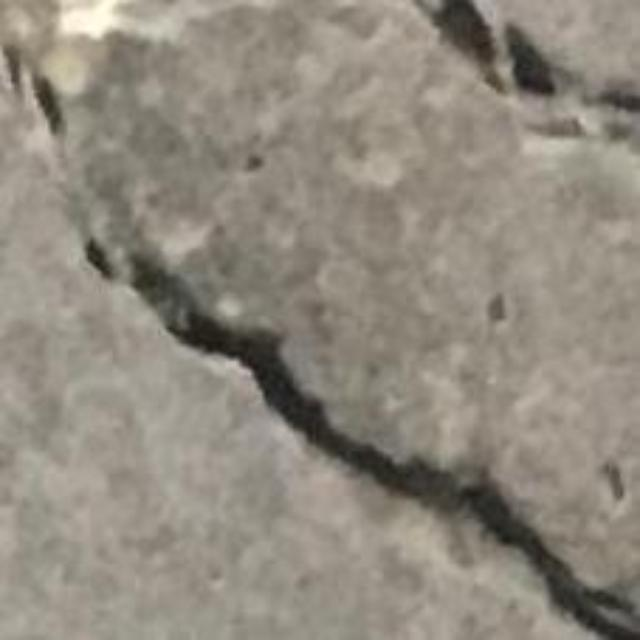crack: (130, 254, 639, 639)
